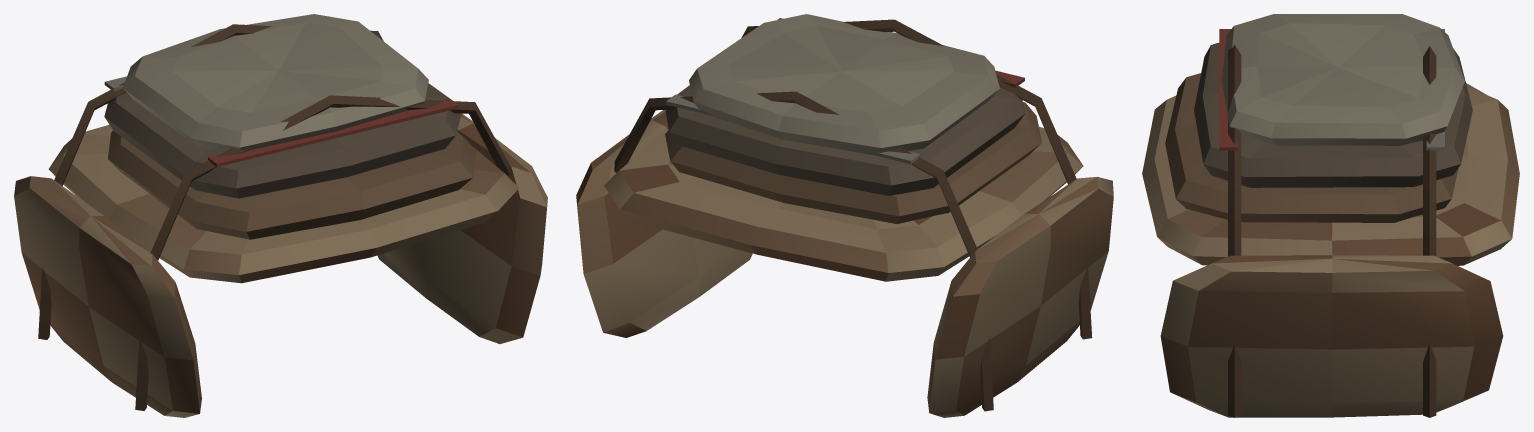
Rendered from montura_mantas.glb.
3 renders of one model, left to right at view 1: azimuth 30°, elevation 25°; view 2: azimuth 150°, elevation 25°; view 3: azimuth 270°, elevation 25°, orthographic.
Visible parts, largest first — view 1: MonturaMantas; view 2: MonturaMantas; view 3: MonturaMantas.
Part boxes in pixels (bbox=[...]): MonturaMantas: bbox=[14, 14, 547, 417]; MonturaMantas: bbox=[576, 14, 1113, 417]; MonturaMantas: bbox=[1142, 14, 1519, 417].
Size of the model in its own units: 0.771 by 0.5168 by 0.62.
